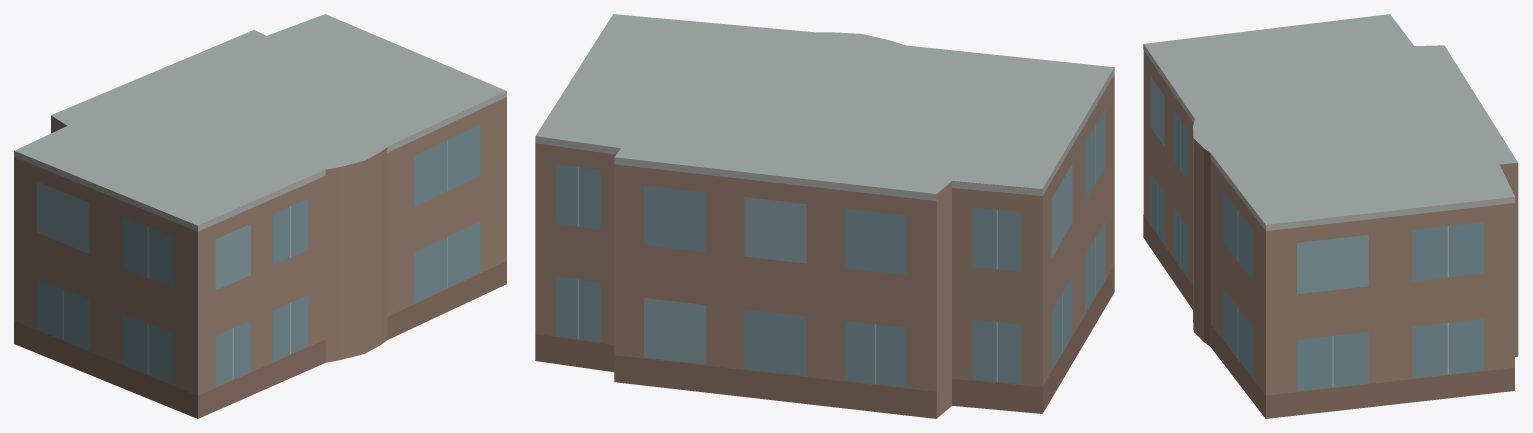
Rendered from survey-upis-32623843.glb.
3 renders of one model, left to right at view 1: azimuth 30°, elevation 25°; view 2: azimuth 150°, elevation 25°; view 3: azimuth 270°, elevation 25°, orthographic. The views are drawn at different scales.
Visible parts, largest first — view 1: survey-upis-32623843.tmp; view 2: survey-upis-32623843.tmp; view 3: survey-upis-32623843.tmp.
Boxes of the visible parts, <box> form: survey-upis-32623843.tmp: <box>14,14,506,418</box>; survey-upis-32623843.tmp: <box>535,14,1114,418</box>; survey-upis-32623843.tmp: <box>1143,14,1518,418</box>.
Size of the model in its own units: 18.22 by 7.8 by 13.68.
